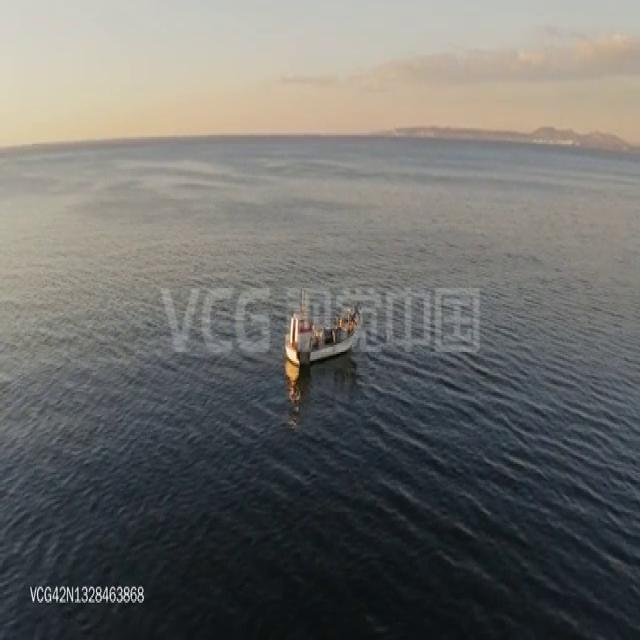houseboat: (279, 288, 361, 360)
